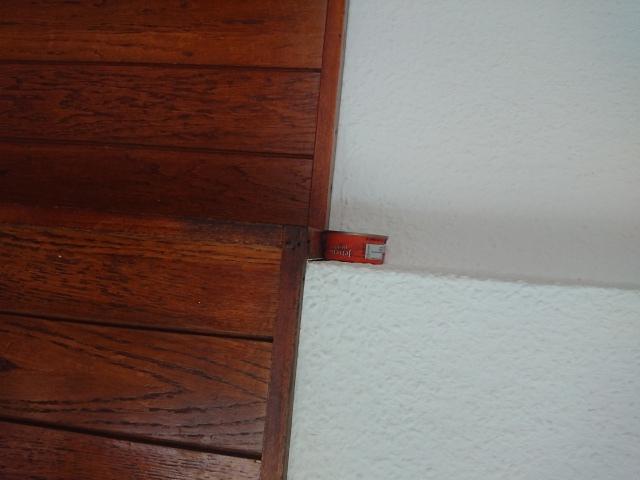Gavrilovic Pork Liver Pate 100g: (320, 227, 390, 266)
